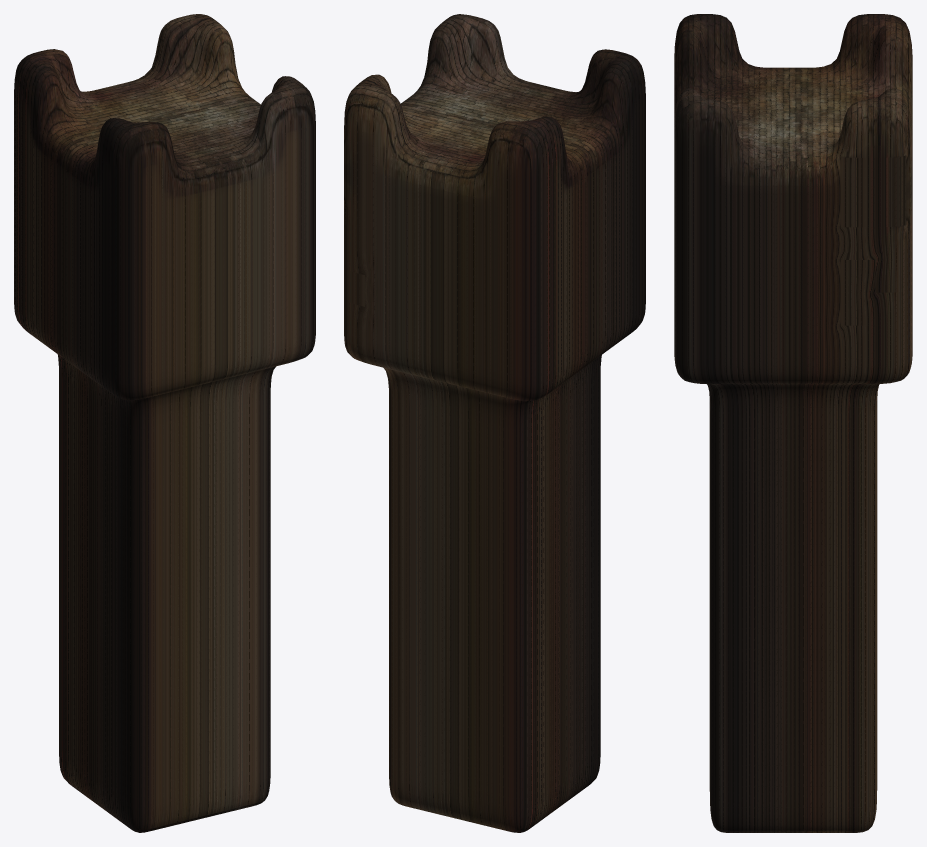
3 views of the same model, side by side, from view 1: azimuth 30°, elevation 25°; view 2: azimuth 150°, elevation 25°; view 3: azimuth 270°, elevation 25° (orthographic). The views are drawn at different scales.
Visible parts, largest first — view 1: Plane; view 2: Plane; view 3: Plane.
Boxes of the visible parts, box(x1,y1,x2,y2) form: Plane: box(14, 14, 315, 832); Plane: box(344, 14, 645, 832); Plane: box(674, 14, 912, 832).
Size of the model in its own units: 141 by 486 by 141.
Materials: 1 (1 with a texture image).
